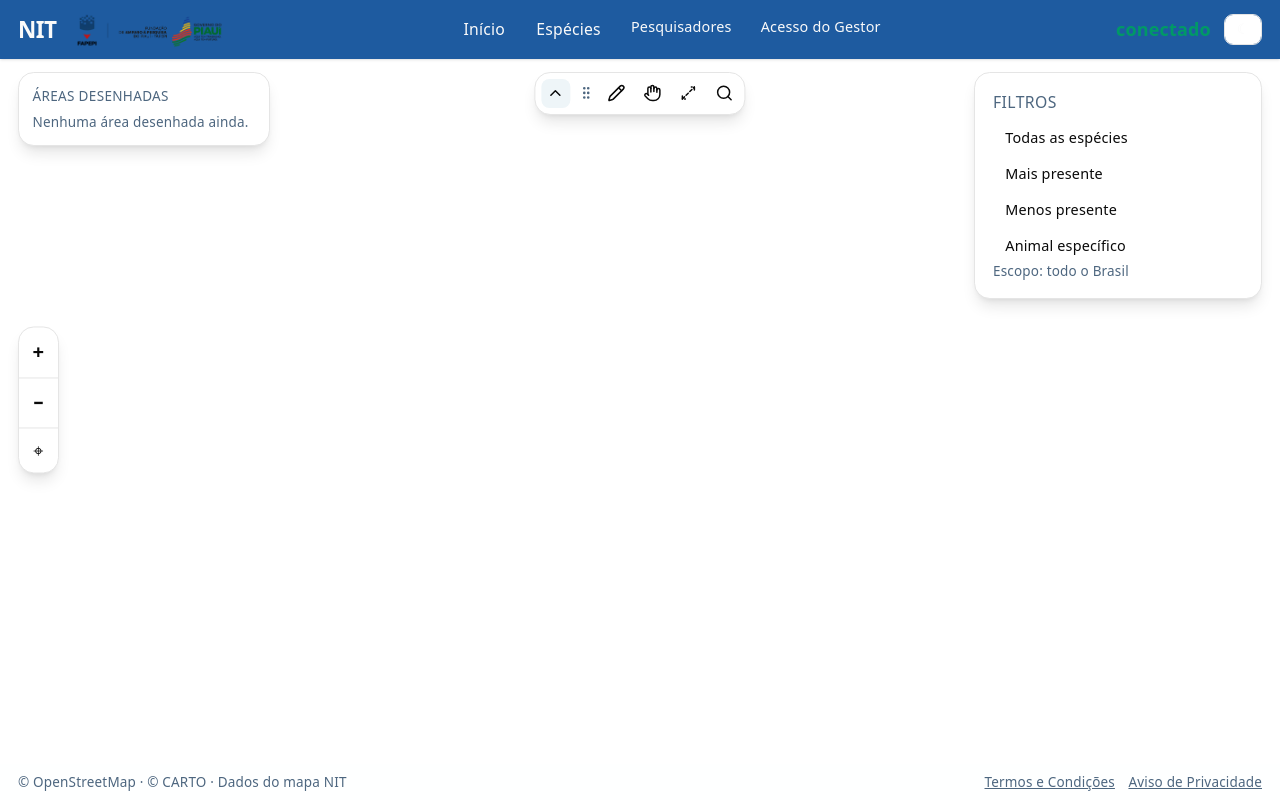
CA-6: busca por nome na listagem de espécies › filtra os cards pelo nome popular ou científico e avisa quando nada casa
The image size is (1280, 800).
Step 1. Click the link with test id "nav-espécies" → (569, 29), box [536,18,601,40]
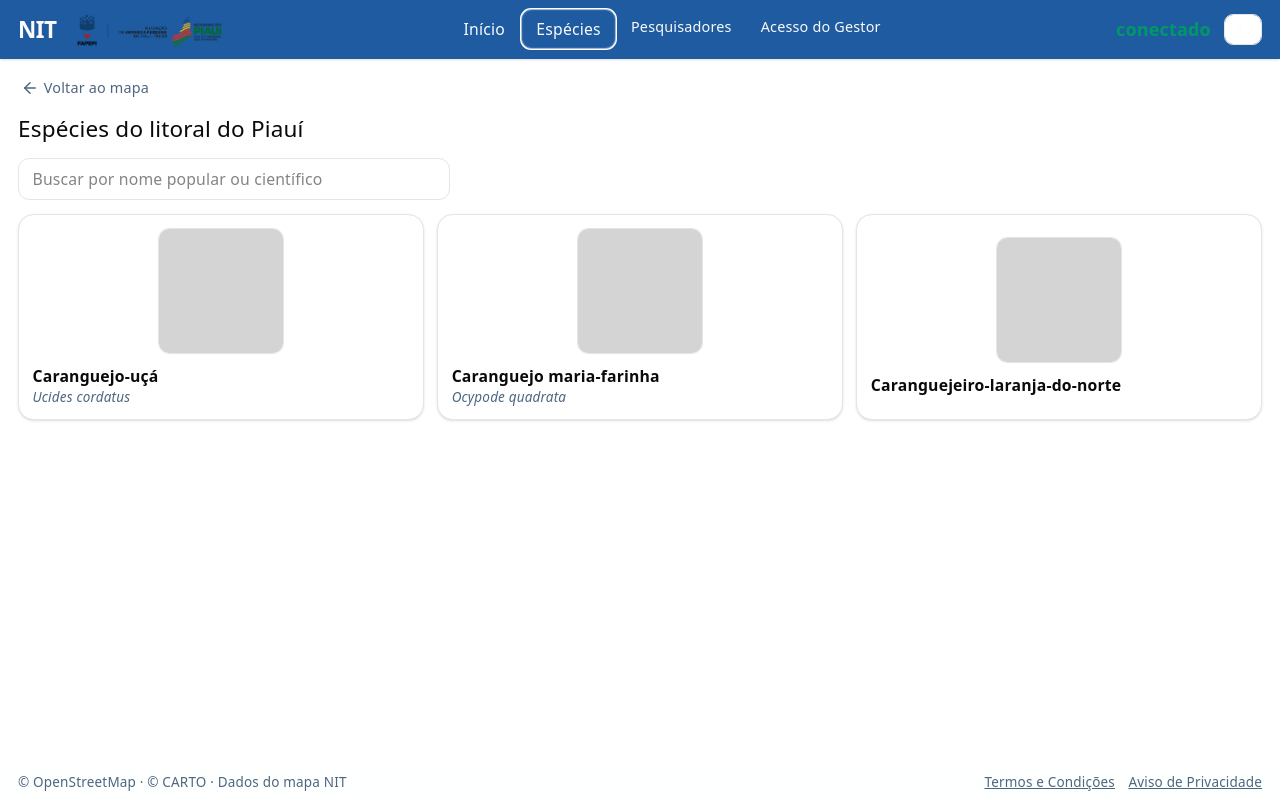
expect the button with test id "card-especie-caranguejo-uca" is shown: met, box [18,214,424,420]
Step 2. Type "maria" into the search field with test id "busca-especies" → (234, 179), box [18,158,450,200]
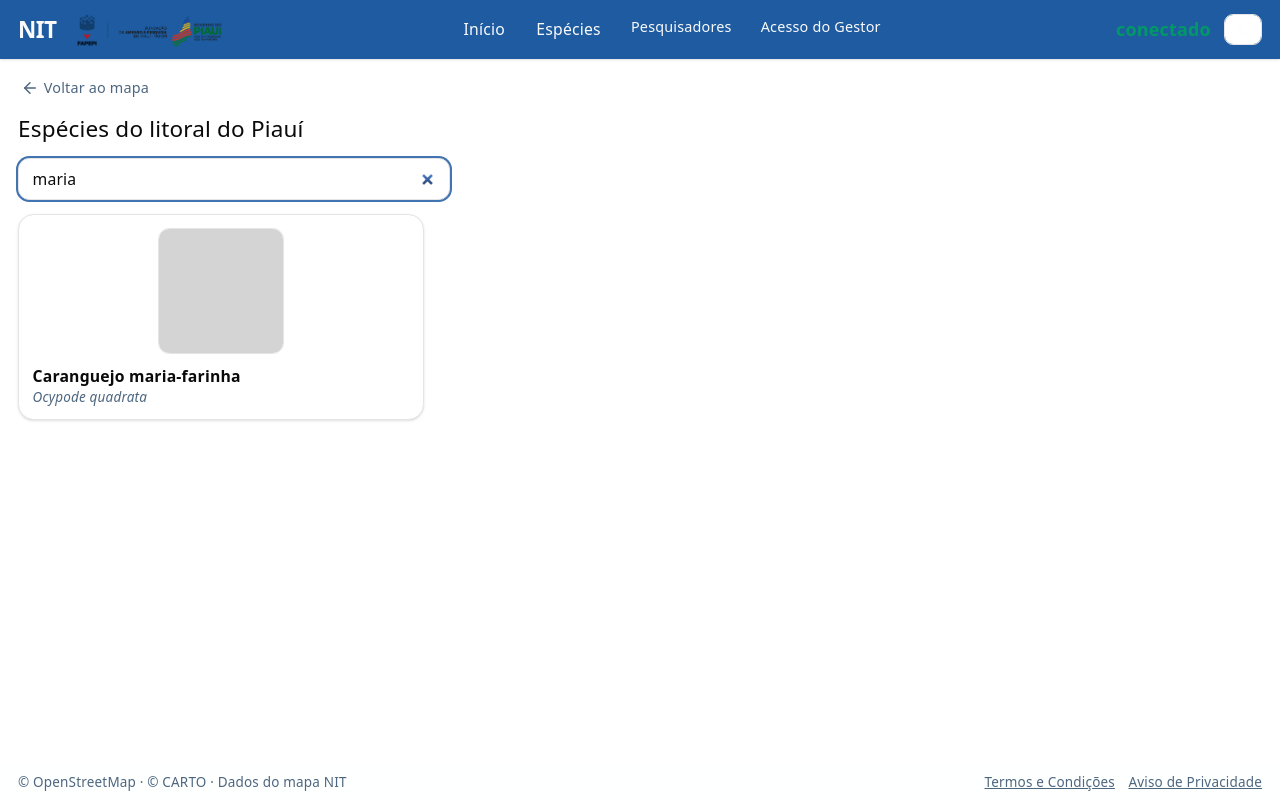
expect the button with test id "card-especie-caranguejo-maria-farinha" is shown: met, box [18,214,424,420]
expect the button with test id "card-especie-caranguejo-uca" is gone: met
Step 3. Replace the text in the search field with test id "busca-especies" with "Ucides" → (234, 179), box [18,158,450,200]
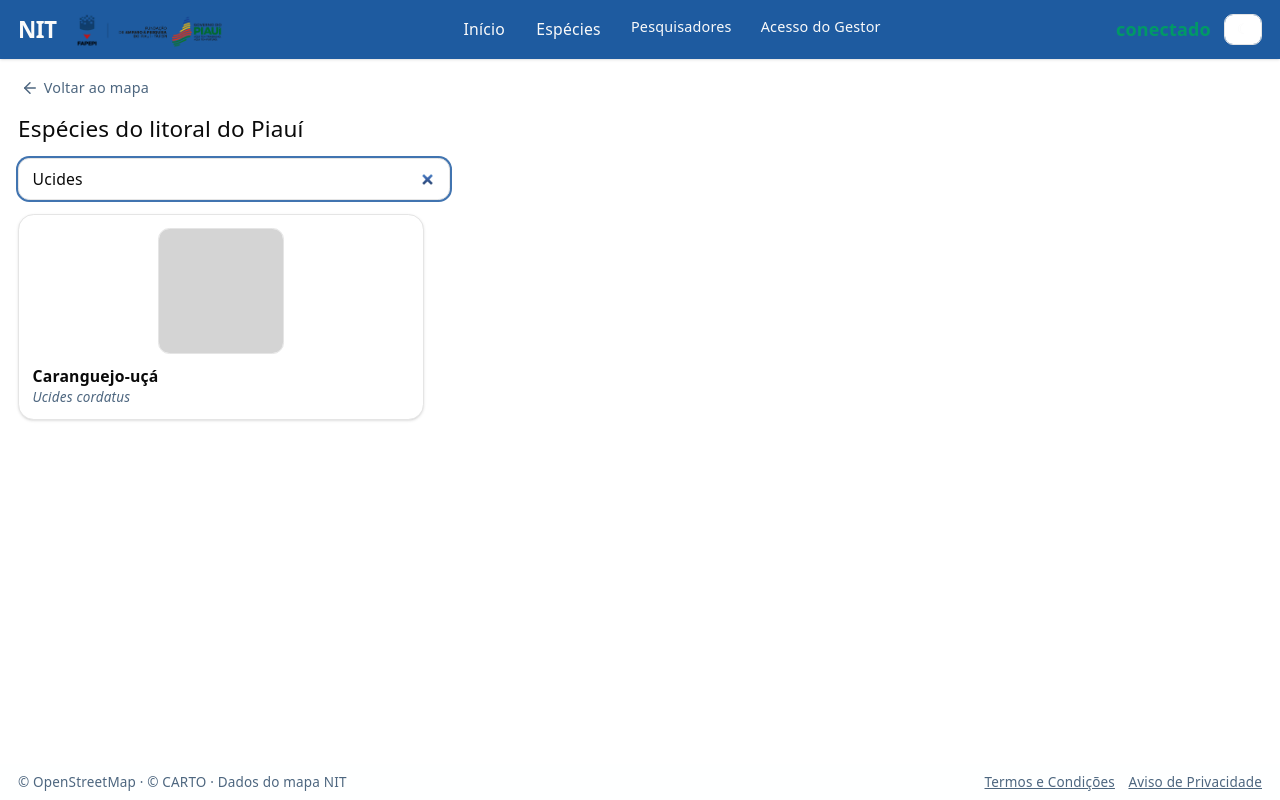
expect the button with test id "card-especie-caranguejo-uca" is shown: met, box [18,214,424,420]
Step 4. Replace the text in the search field with test id "busca-especies" with "inexistente" → (234, 179), box [18,158,450,200]
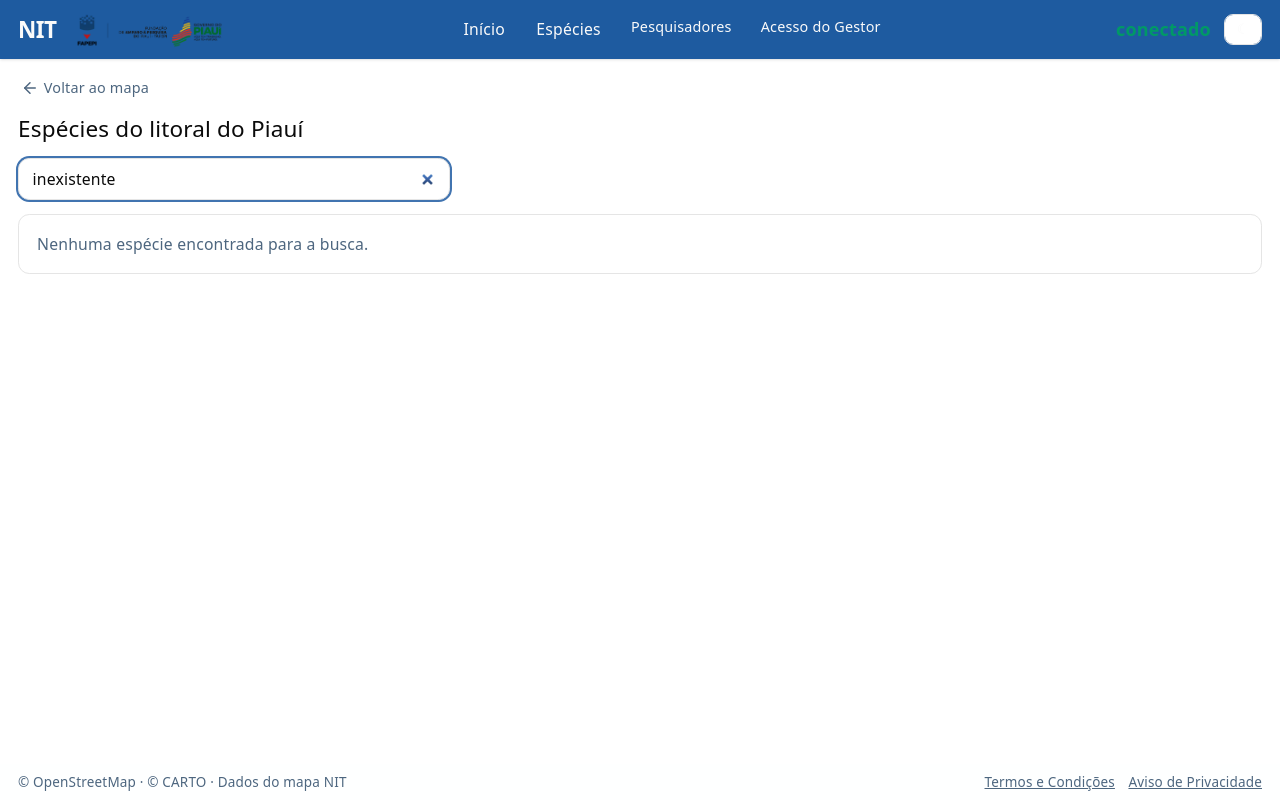
expect the text "Nenhuma espécie encontrada para a busca." is shown: met, box [18,214,1262,274]
expect the button with test id "card-especie-caranguejo-uca" is gone: met
